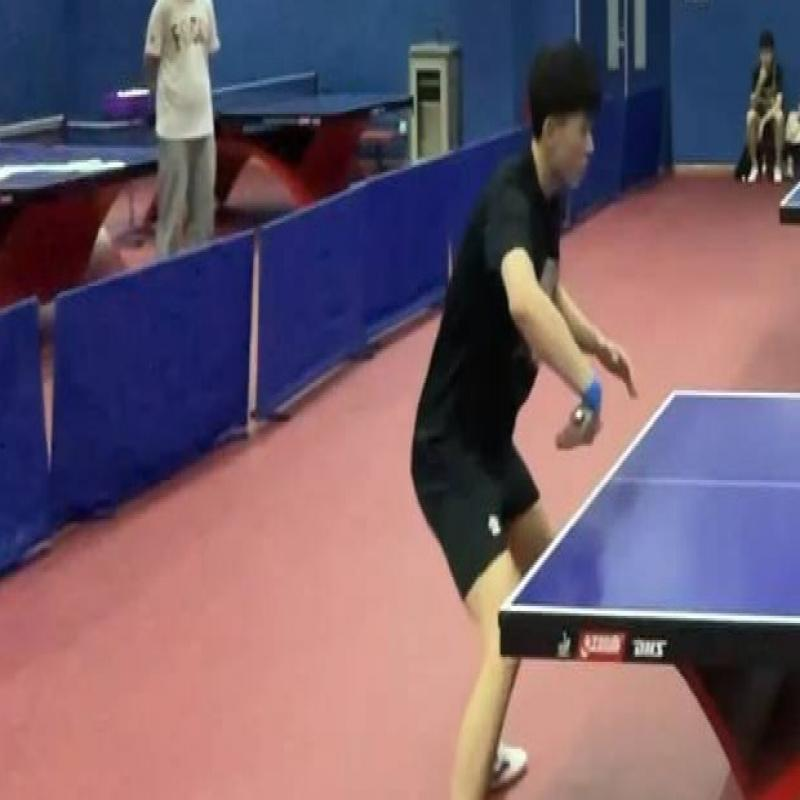bats: (551, 398, 615, 461)
